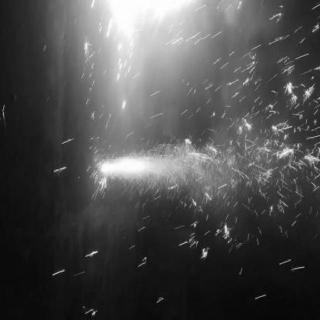Fire: (97, 147, 185, 187)
